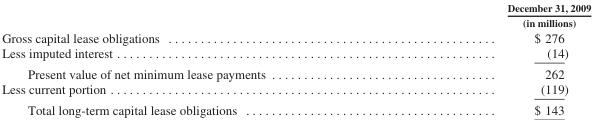table: (1, 1, 590, 116)
table column: (1, 1, 385, 116), (385, 1, 590, 116)
table column header: (1, 1, 590, 29)
table row: (1, 1, 590, 29), (1, 45, 590, 63), (1, 63, 590, 81), (1, 81, 590, 99), (1, 99, 590, 116), (1, 29, 590, 45)
